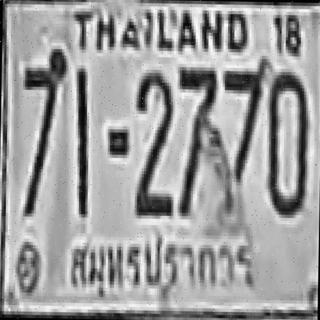N00: (266, 71, 309, 218)
N01: (73, 66, 88, 216)
N02: (133, 68, 175, 214)
N07: (20, 67, 64, 212), (176, 64, 218, 213), (220, 64, 264, 186)
P52: (64, 227, 264, 300)
